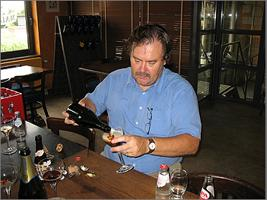person: (62, 24, 202, 182)
